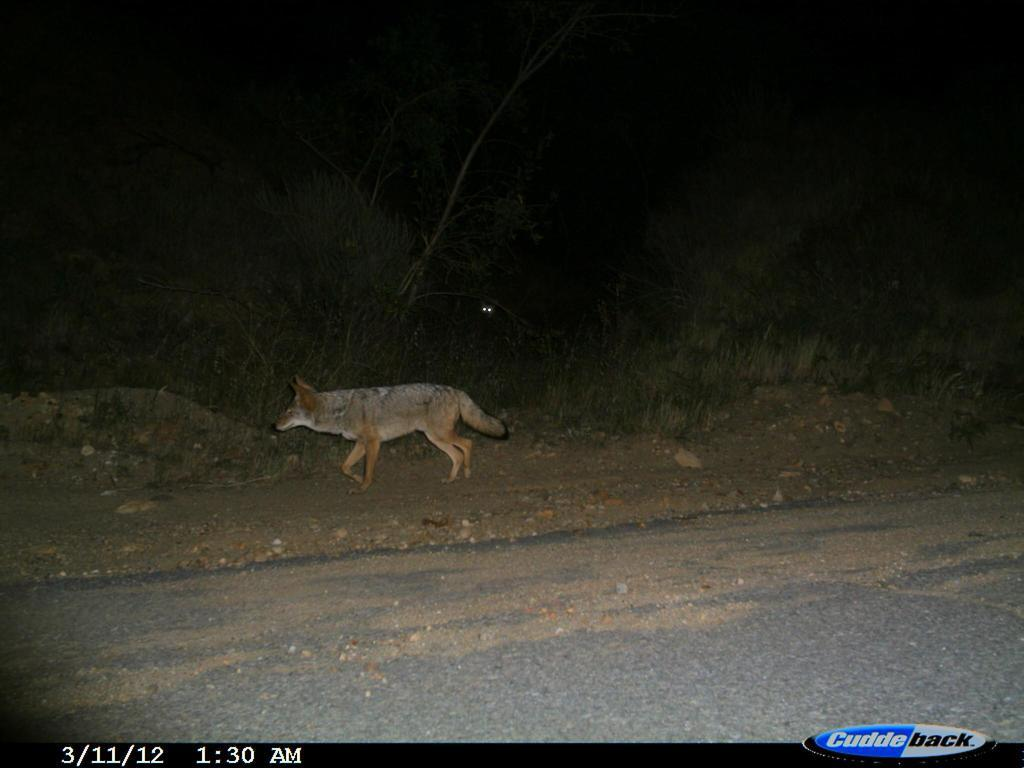coyote: (267, 369, 519, 498)
